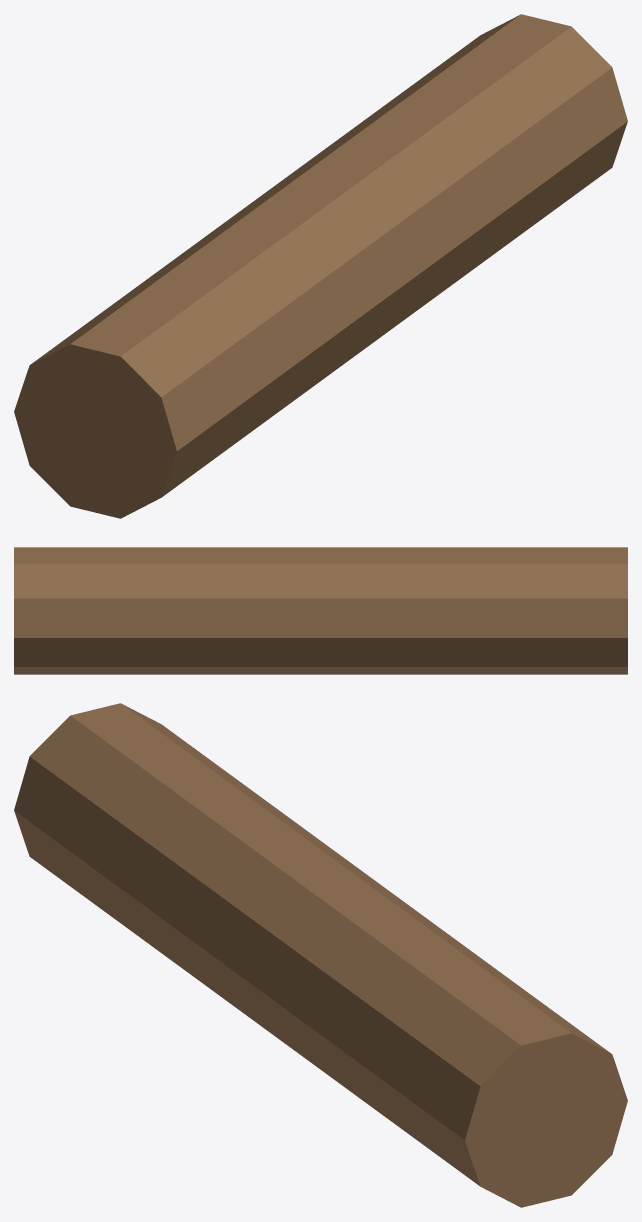
File: banco_1_lev1.glb
3 views of the same model, one above another, from view 1: azimuth 30°, elevation 25°; view 2: azimuth 150°, elevation 25°; view 3: azimuth 270°, elevation 25° (orthographic). The views are drawn at different scales.
Visible parts, largest first — view 1: banco_1_lev1; view 2: banco_1_lev1; view 3: banco_1_lev1.
Boxes of the visible parts, box(x1,y1,x2,y2) form: banco_1_lev1: box(14, 14, 627, 518); banco_1_lev1: box(14, 547, 627, 674); banco_1_lev1: box(14, 703, 627, 1207).
Bounding box in the file's own units: 2.23 × 0.4565 × 1.57.
